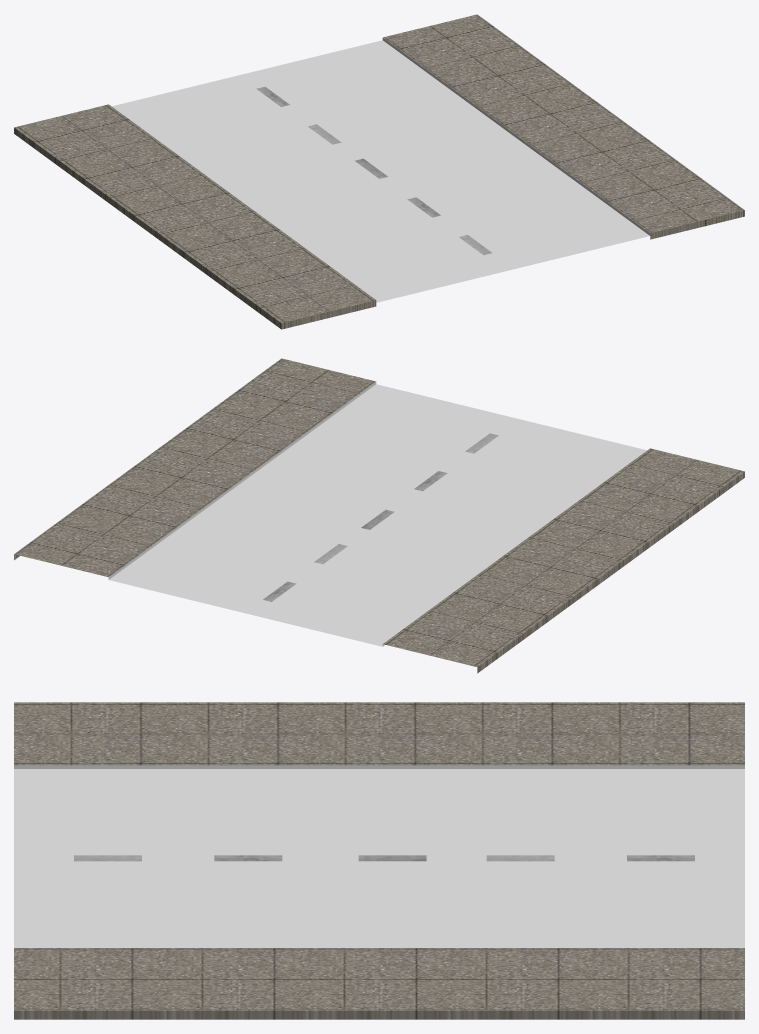
Rendered from road2.fbx.
3 renders of one model, top to bottom at view 1: azimuth 30°, elevation 25°; view 2: azimuth 150°, elevation 25°; view 3: azimuth 270°, elevation 25°, orthographic. The views are drawn at different scales.
Visible parts, largest first — view 1: road2; view 2: road2; view 3: road2.
Part boxes in pixels (bbox=[...]): road2: bbox=[14, 14, 744, 329]; road2: bbox=[14, 358, 744, 673]; road2: bbox=[14, 702, 744, 1019].
Size of the model in its own units: 200 by 2.61 by 200.
